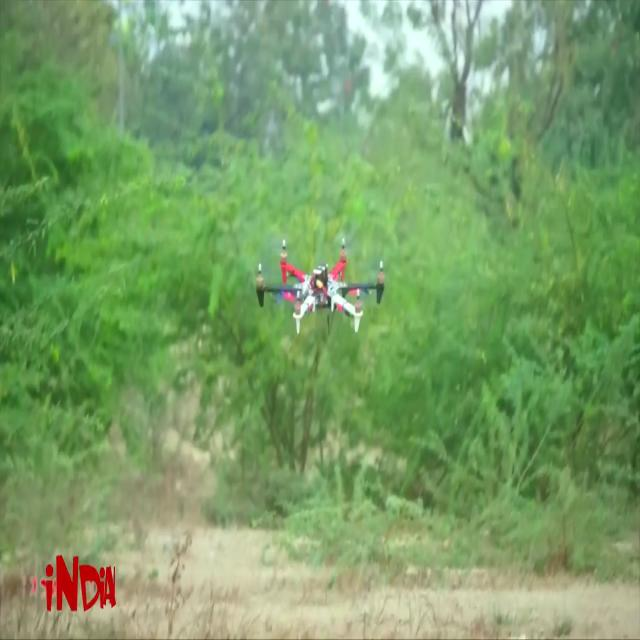drone: (242, 228, 395, 350)
